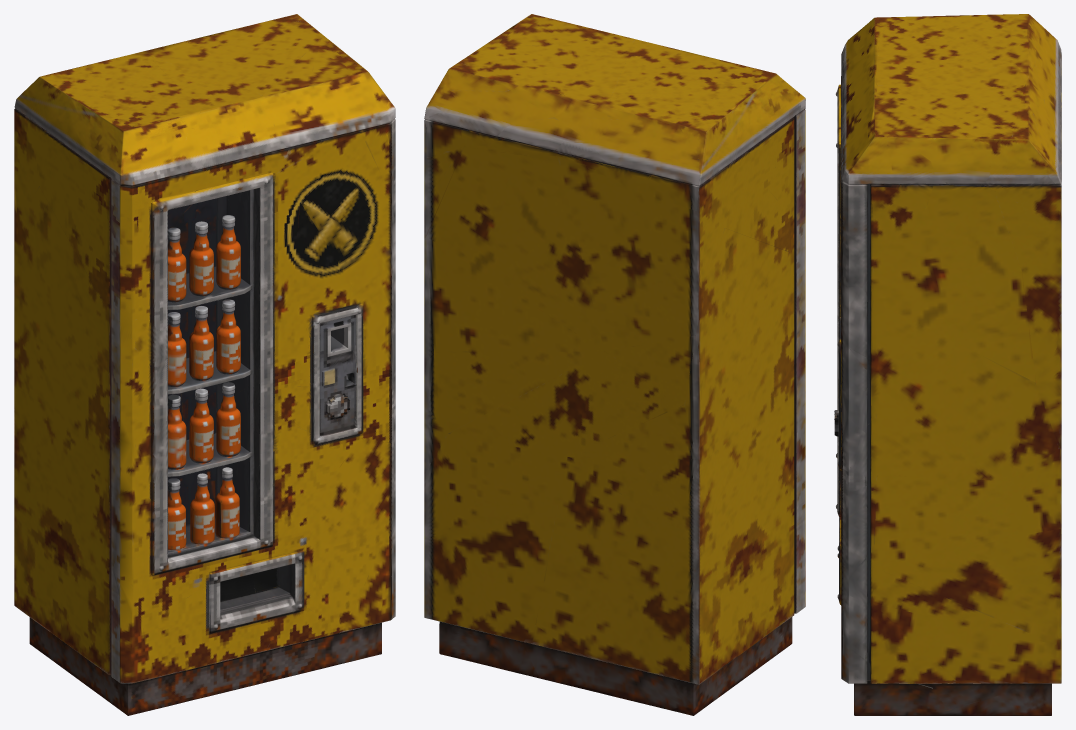
Rendered from Meshy_AI_model.glb.
3 renders of one model, left to right at view 1: azimuth 30°, elevation 25°; view 2: azimuth 150°, elevation 25°; view 3: azimuth 270°, elevation 25°, orthographic.
Bounding box in the file's own units: 0.952 × 1.9 × 0.6788.
1 material, 1 textured.
